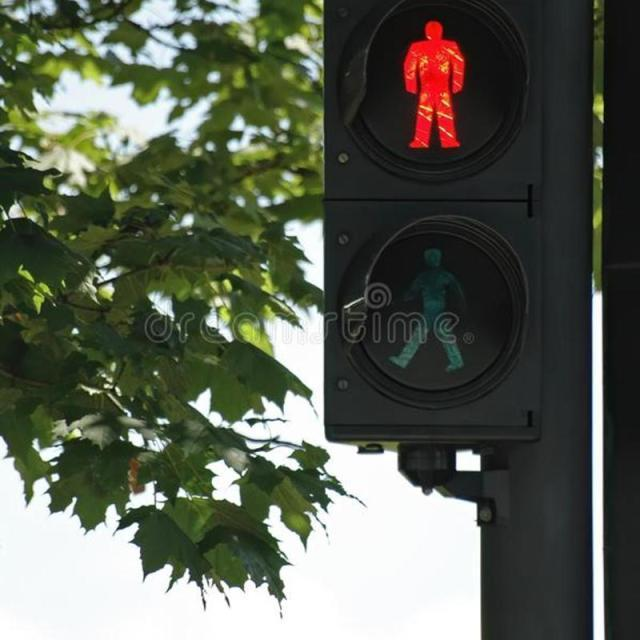red-crossing: (330, 4, 536, 194)
